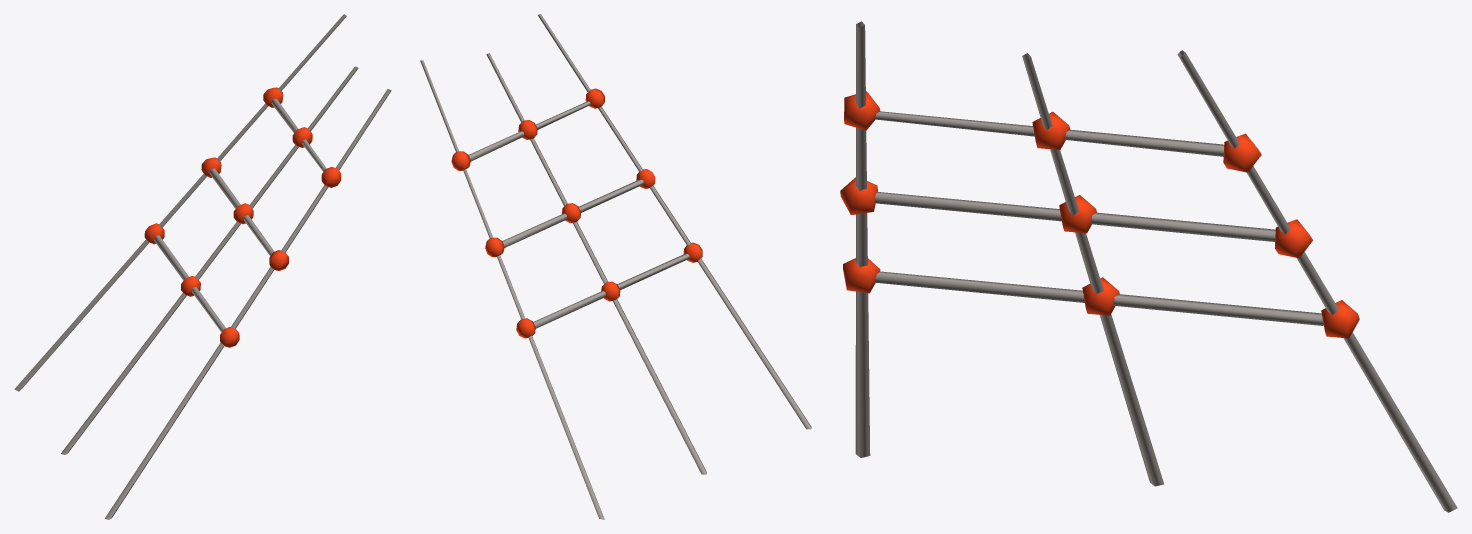
The model's file is PlaygroundSet_RopeSmall.fbx.
The picture shows the model from 3 angles, left to right: view 1: azimuth 30°, elevation 25°; view 2: azimuth 150°, elevation 25°; view 3: azimuth 270°, elevation 25°; orthographic projection. The views are drawn at different scales.
Parts seen in each view (by area): view 1: PlaygroundSet_RopeSmall; view 2: PlaygroundSet_RopeSmall; view 3: PlaygroundSet_RopeSmall.
Part boxes in pixels (x1,y1,x2,y2): PlaygroundSet_RopeSmall: [14, 14, 391, 519]; PlaygroundSet_RopeSmall: [420, 14, 811, 519]; PlaygroundSet_RopeSmall: [840, 21, 1457, 512].
Bounding box in the file's own units: 101 × 109 × 86.41.
1 material, 1 textured.
